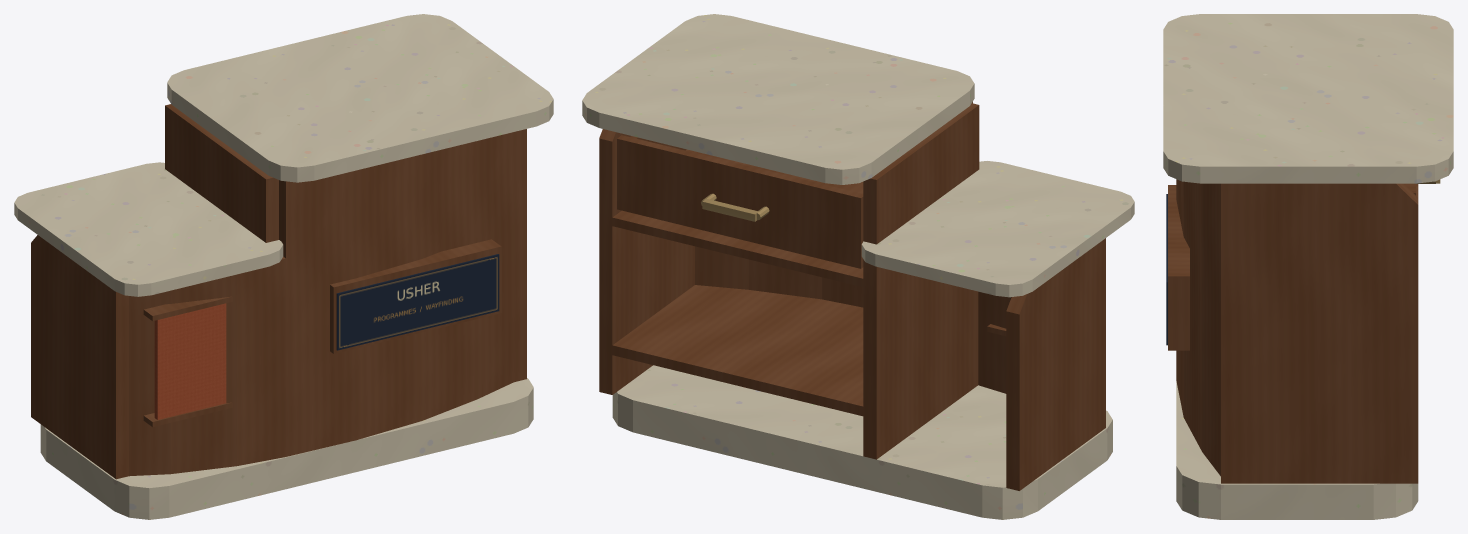
Rendered from AST-CUL-002.glb.
3 views of the same model, side by side, from view 1: azimuth 30°, elevation 25°; view 2: azimuth 150°, elevation 25°; view 3: azimuth 270°, elevation 25° (orthographic). The views are drawn at different scales.
Visible parts, largest first — view 1: AST-CUL-002__AST-CUL-002__warm_walnut, AST-CUL-002__AST-CUL-002__warm_stone, AST-CUL-002__AST-CUL-002__usher_original, AST-CUL-002__AST-CUL-002__auditorium_amber_velvet; view 2: AST-CUL-002__AST-CUL-002__warm_stone, AST-CUL-002__AST-CUL-002__warm_walnut, AST-CUL-002__USHER_DRAWER__warm_walnut, AST-CUL-002__USHER_DRAWER__champagne_metal; view 3: AST-CUL-002__AST-CUL-002__warm_walnut, AST-CUL-002__AST-CUL-002__warm_stone.
Boxes of the visible parts, bbox=[...] form: AST-CUL-002__AST-CUL-002__warm_walnut: bbox=[31, 104, 526, 479]; AST-CUL-002__AST-CUL-002__warm_stone: bbox=[14, 14, 553, 519]; AST-CUL-002__AST-CUL-002__usher_original: bbox=[336, 254, 499, 350]; AST-CUL-002__AST-CUL-002__auditorium_amber_velvet: bbox=[154, 303, 226, 419]; AST-CUL-002__AST-CUL-002__warm_stone: bbox=[582, 14, 1134, 519]; AST-CUL-002__AST-CUL-002__warm_walnut: bbox=[599, 101, 1105, 490]; AST-CUL-002__USHER_DRAWER__warm_walnut: bbox=[617, 135, 863, 268]; AST-CUL-002__USHER_DRAWER__champagne_metal: bbox=[701, 193, 769, 221]; AST-CUL-002__AST-CUL-002__warm_walnut: bbox=[1168, 179, 1418, 483]; AST-CUL-002__AST-CUL-002__warm_stone: bbox=[1163, 14, 1453, 519].
Size of the model in its own units: 1.51 by 1.07 by 0.78.
Materials: 5 (5 with a texture image).
